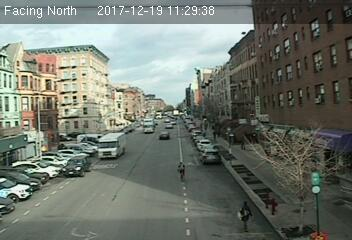bicycle: (177, 161, 186, 182)
car: (61, 155, 90, 176), (200, 148, 221, 165), (158, 130, 170, 140)
truck: (98, 131, 126, 160)
